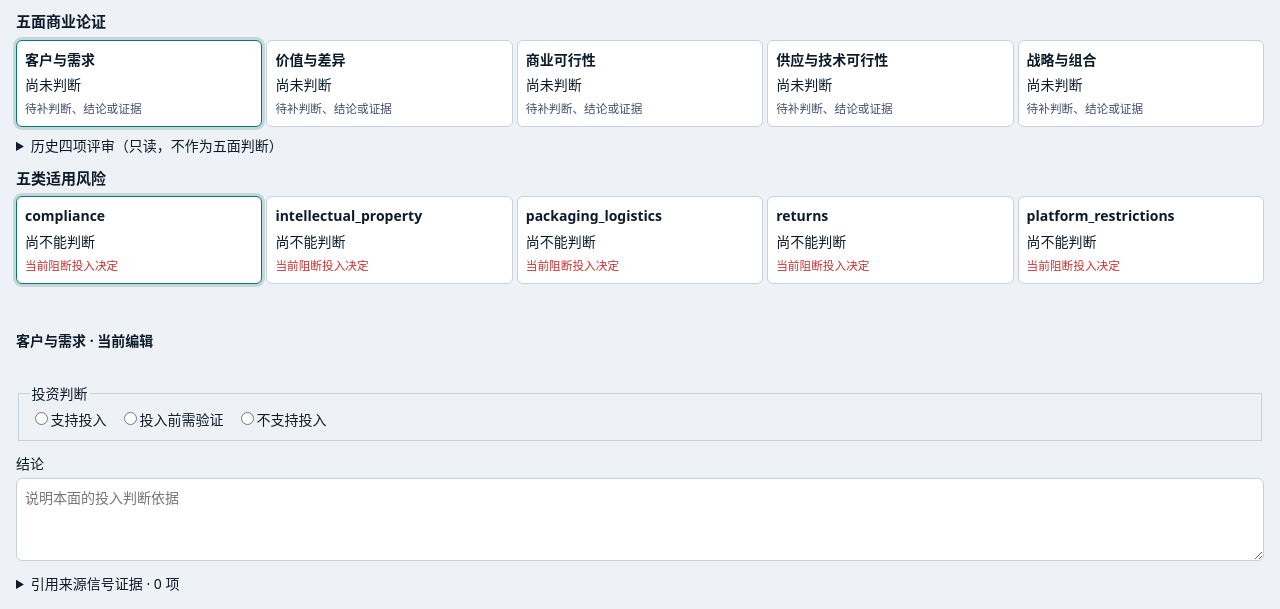
Test case: ProductInitiativeReviewPanel › 五行摘要只编辑当前一面，历史结论只读保留
Expected: the heading "客户与需求 · 当前编辑" is shown, [16, 331, 153, 350]
Click the button "价值与差异 尚未判断 待补判断、结论或证据" at [390, 83], box [266, 40, 513, 127]
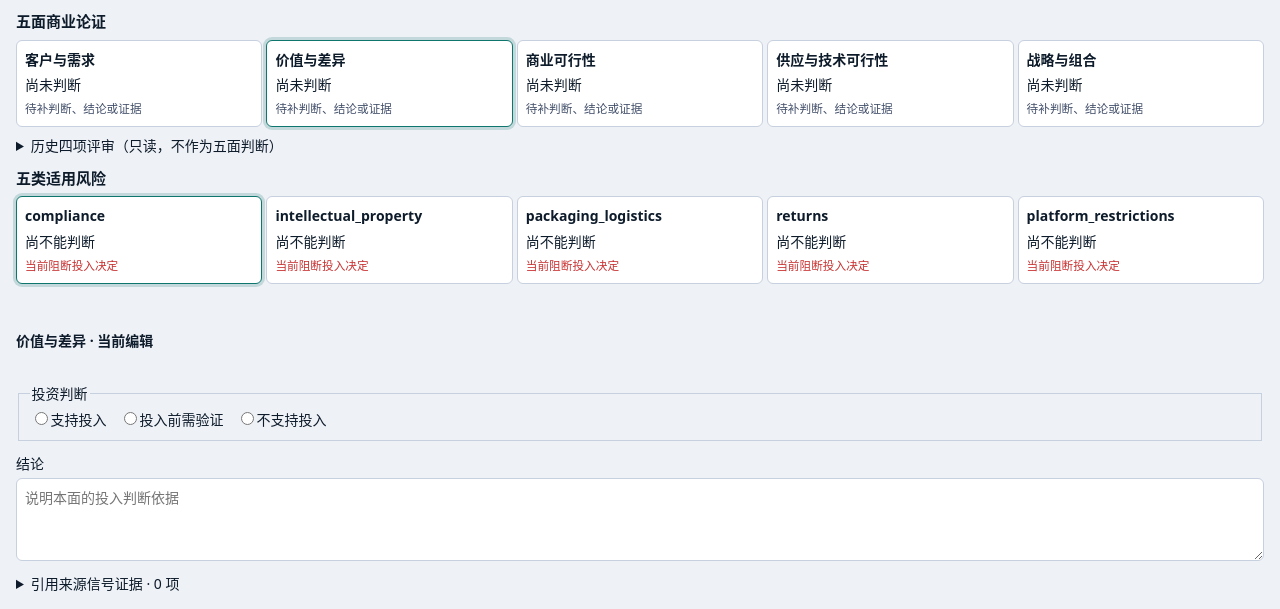
Expected: the heading "价值与差异 · 当前编辑" is shown, [16, 331, 153, 350]
